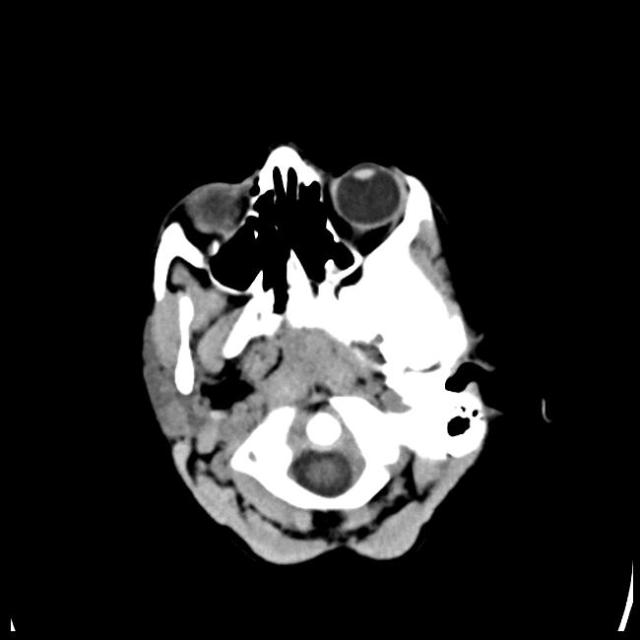lesion: (137, 140, 511, 568)
